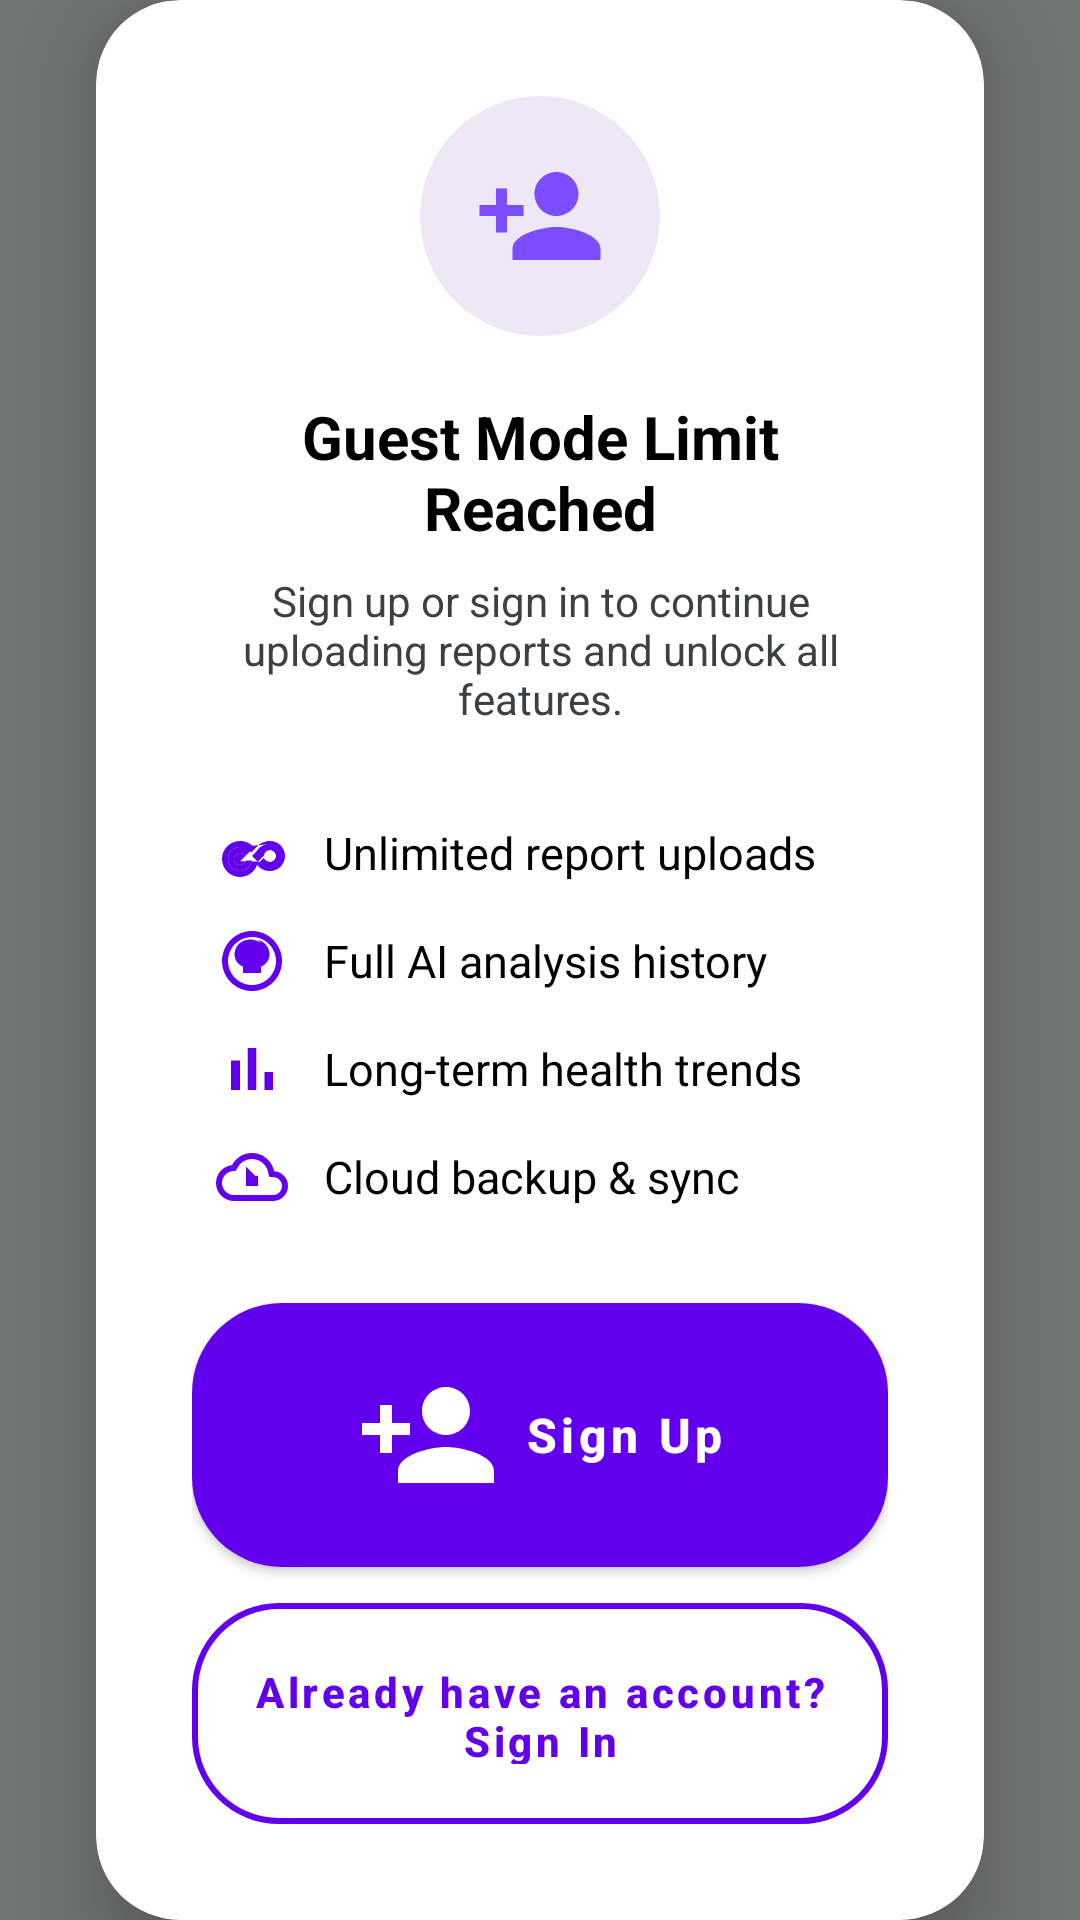

Named icons in this screenshot (1080px x 1920px) and their bounding boxes, (x1, y1, x2, y2):
analytics: (231, 1048, 273, 1090)
infinity: (222, 841, 285, 877)
person add: (479, 172, 601, 260)
